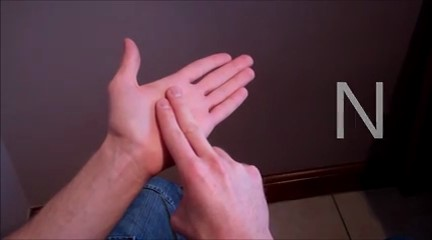N: (96, 29, 283, 229)
